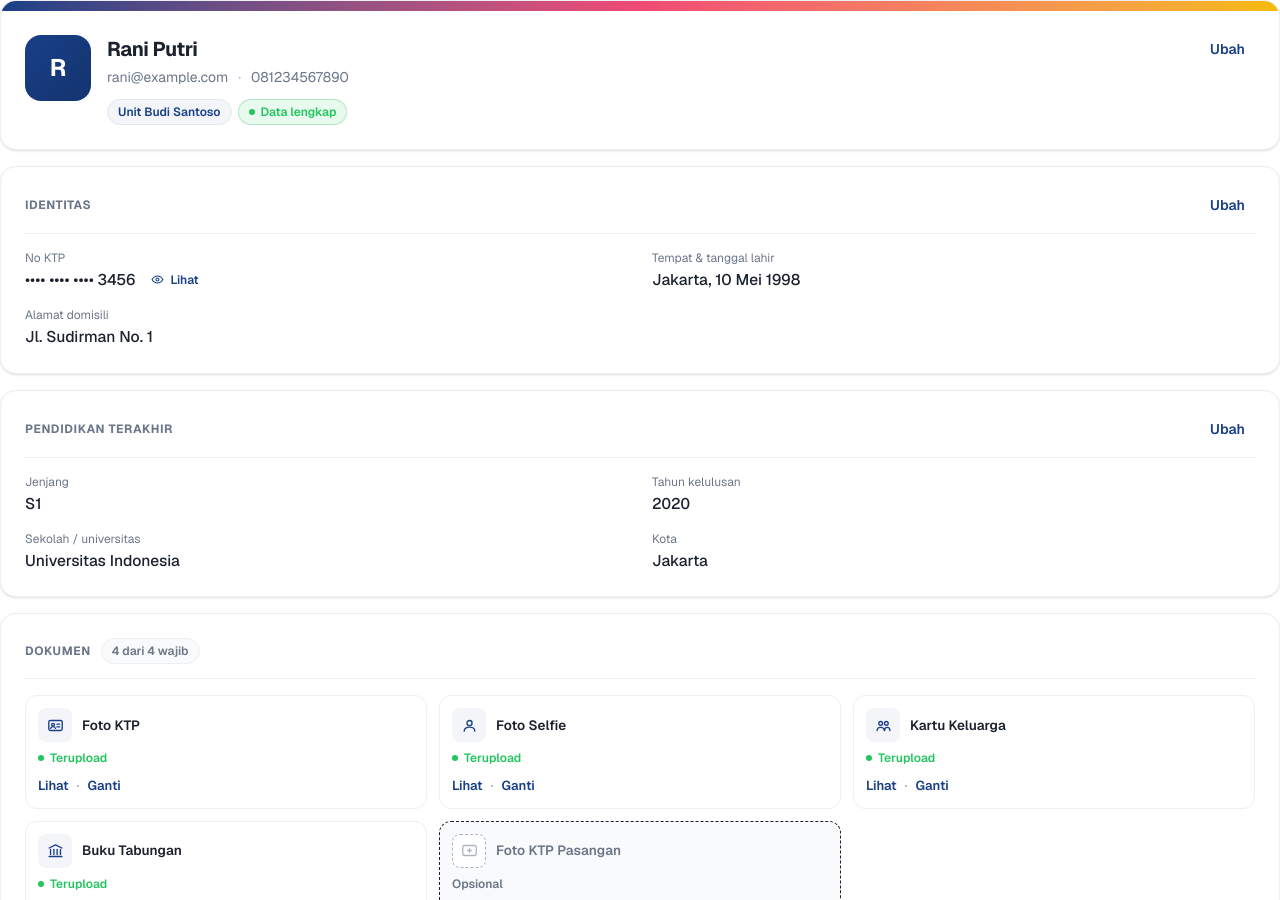
Test: JoinDataForm — per-section editing › Batal discards the edit and leaves the saved record untouched
Click the button with aria-label "Ubah Identitas".
click(1227, 205)  # box x1=1200 y1=191 x2=1255 y2=219
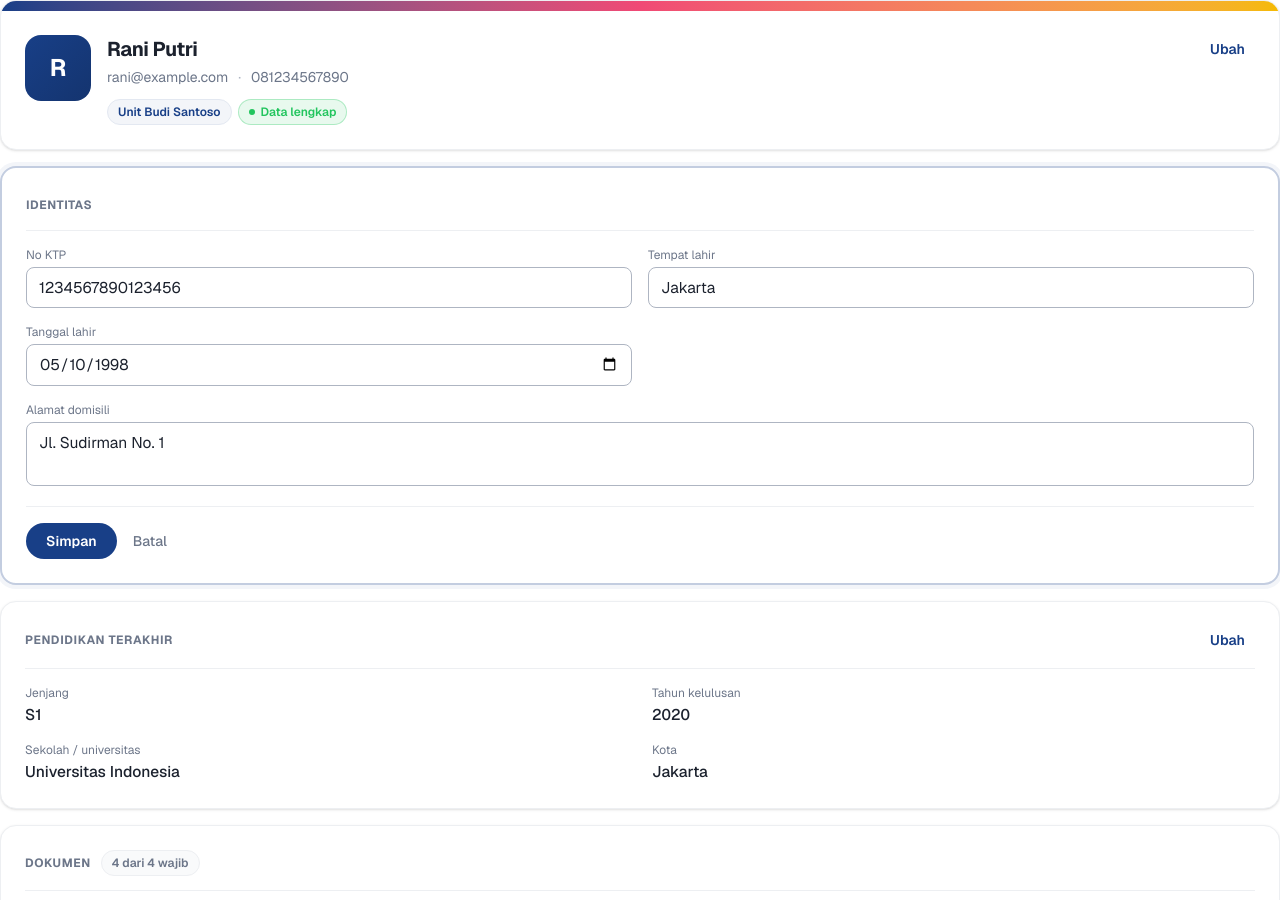
Replace the text in the field labelled "Tempat lahir" with "Bandung" at (951, 288), box x1=648 y1=267 x2=1254 y2=308
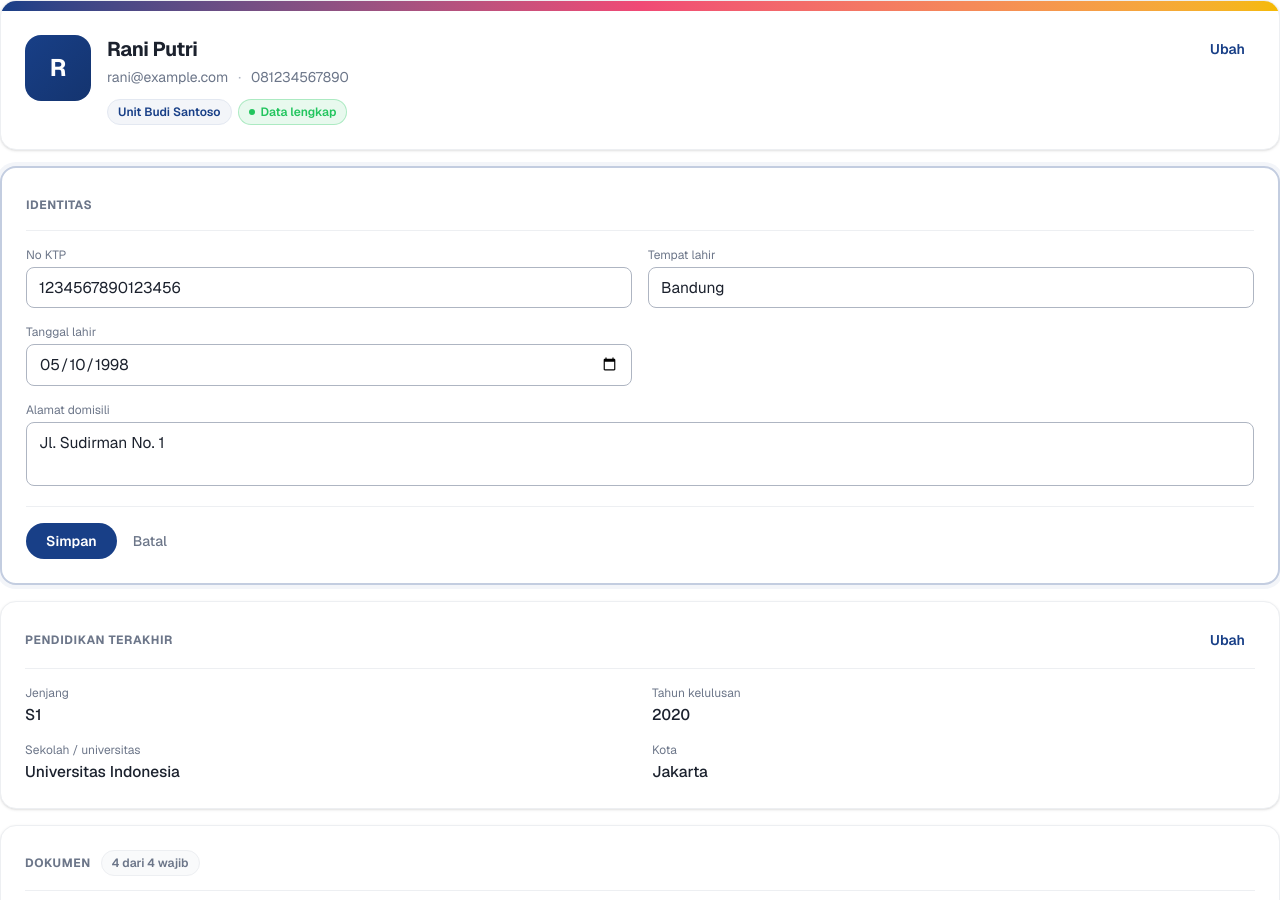
Click the button "Batal".
click(150, 541)  # box x1=133 y1=531 x2=167 y2=551
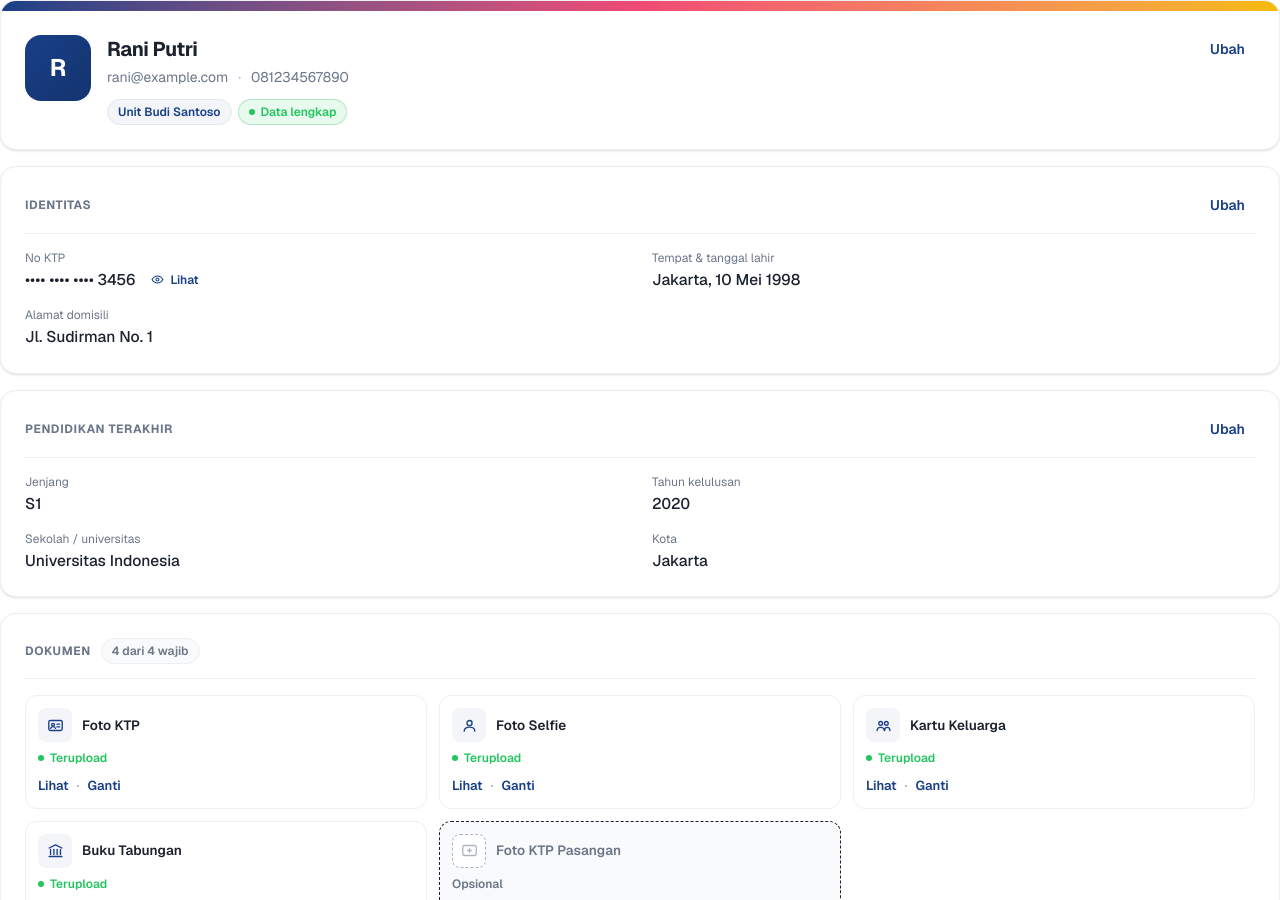
Result: the text labelled "Tempat lahir" is gone
Result: the text "Jakarta, 10 Mei 1998" is shown at x1=652 y1=269 x2=800 y2=290
